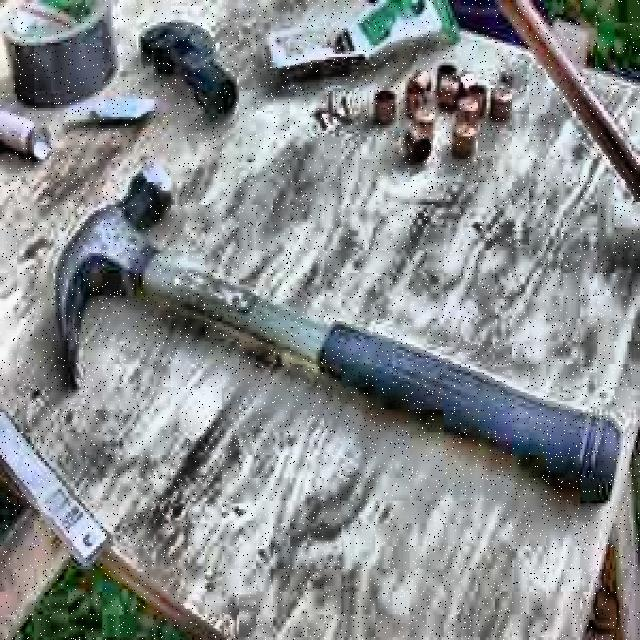hammer: (52, 161, 622, 517)
